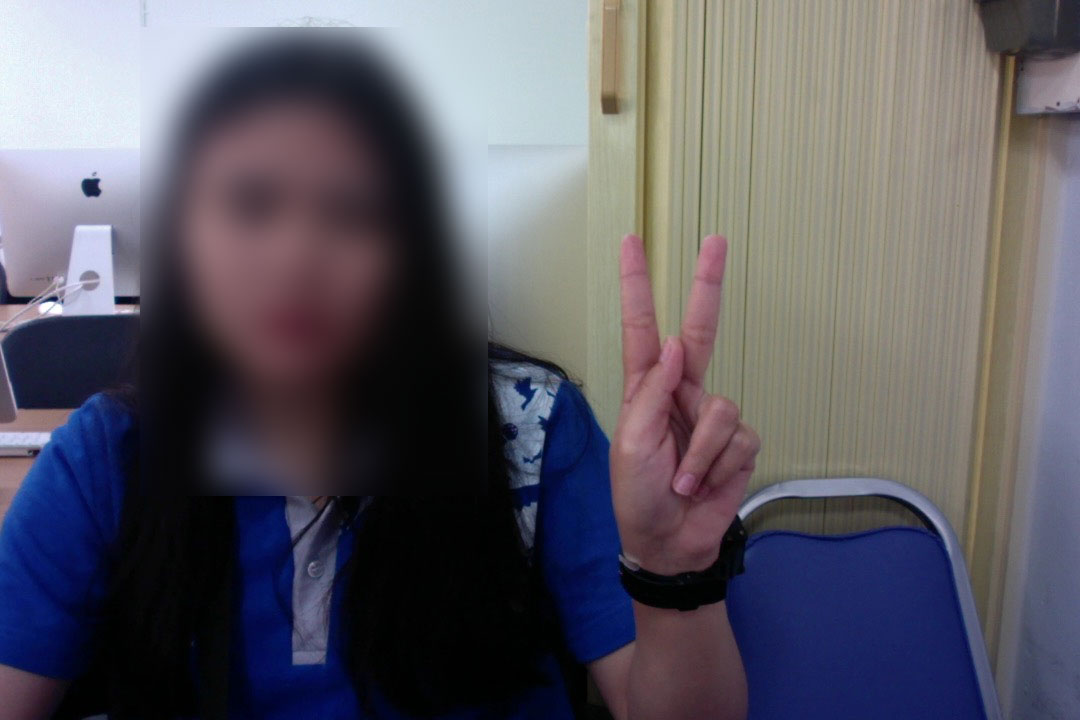ko: (603, 216, 774, 596)
